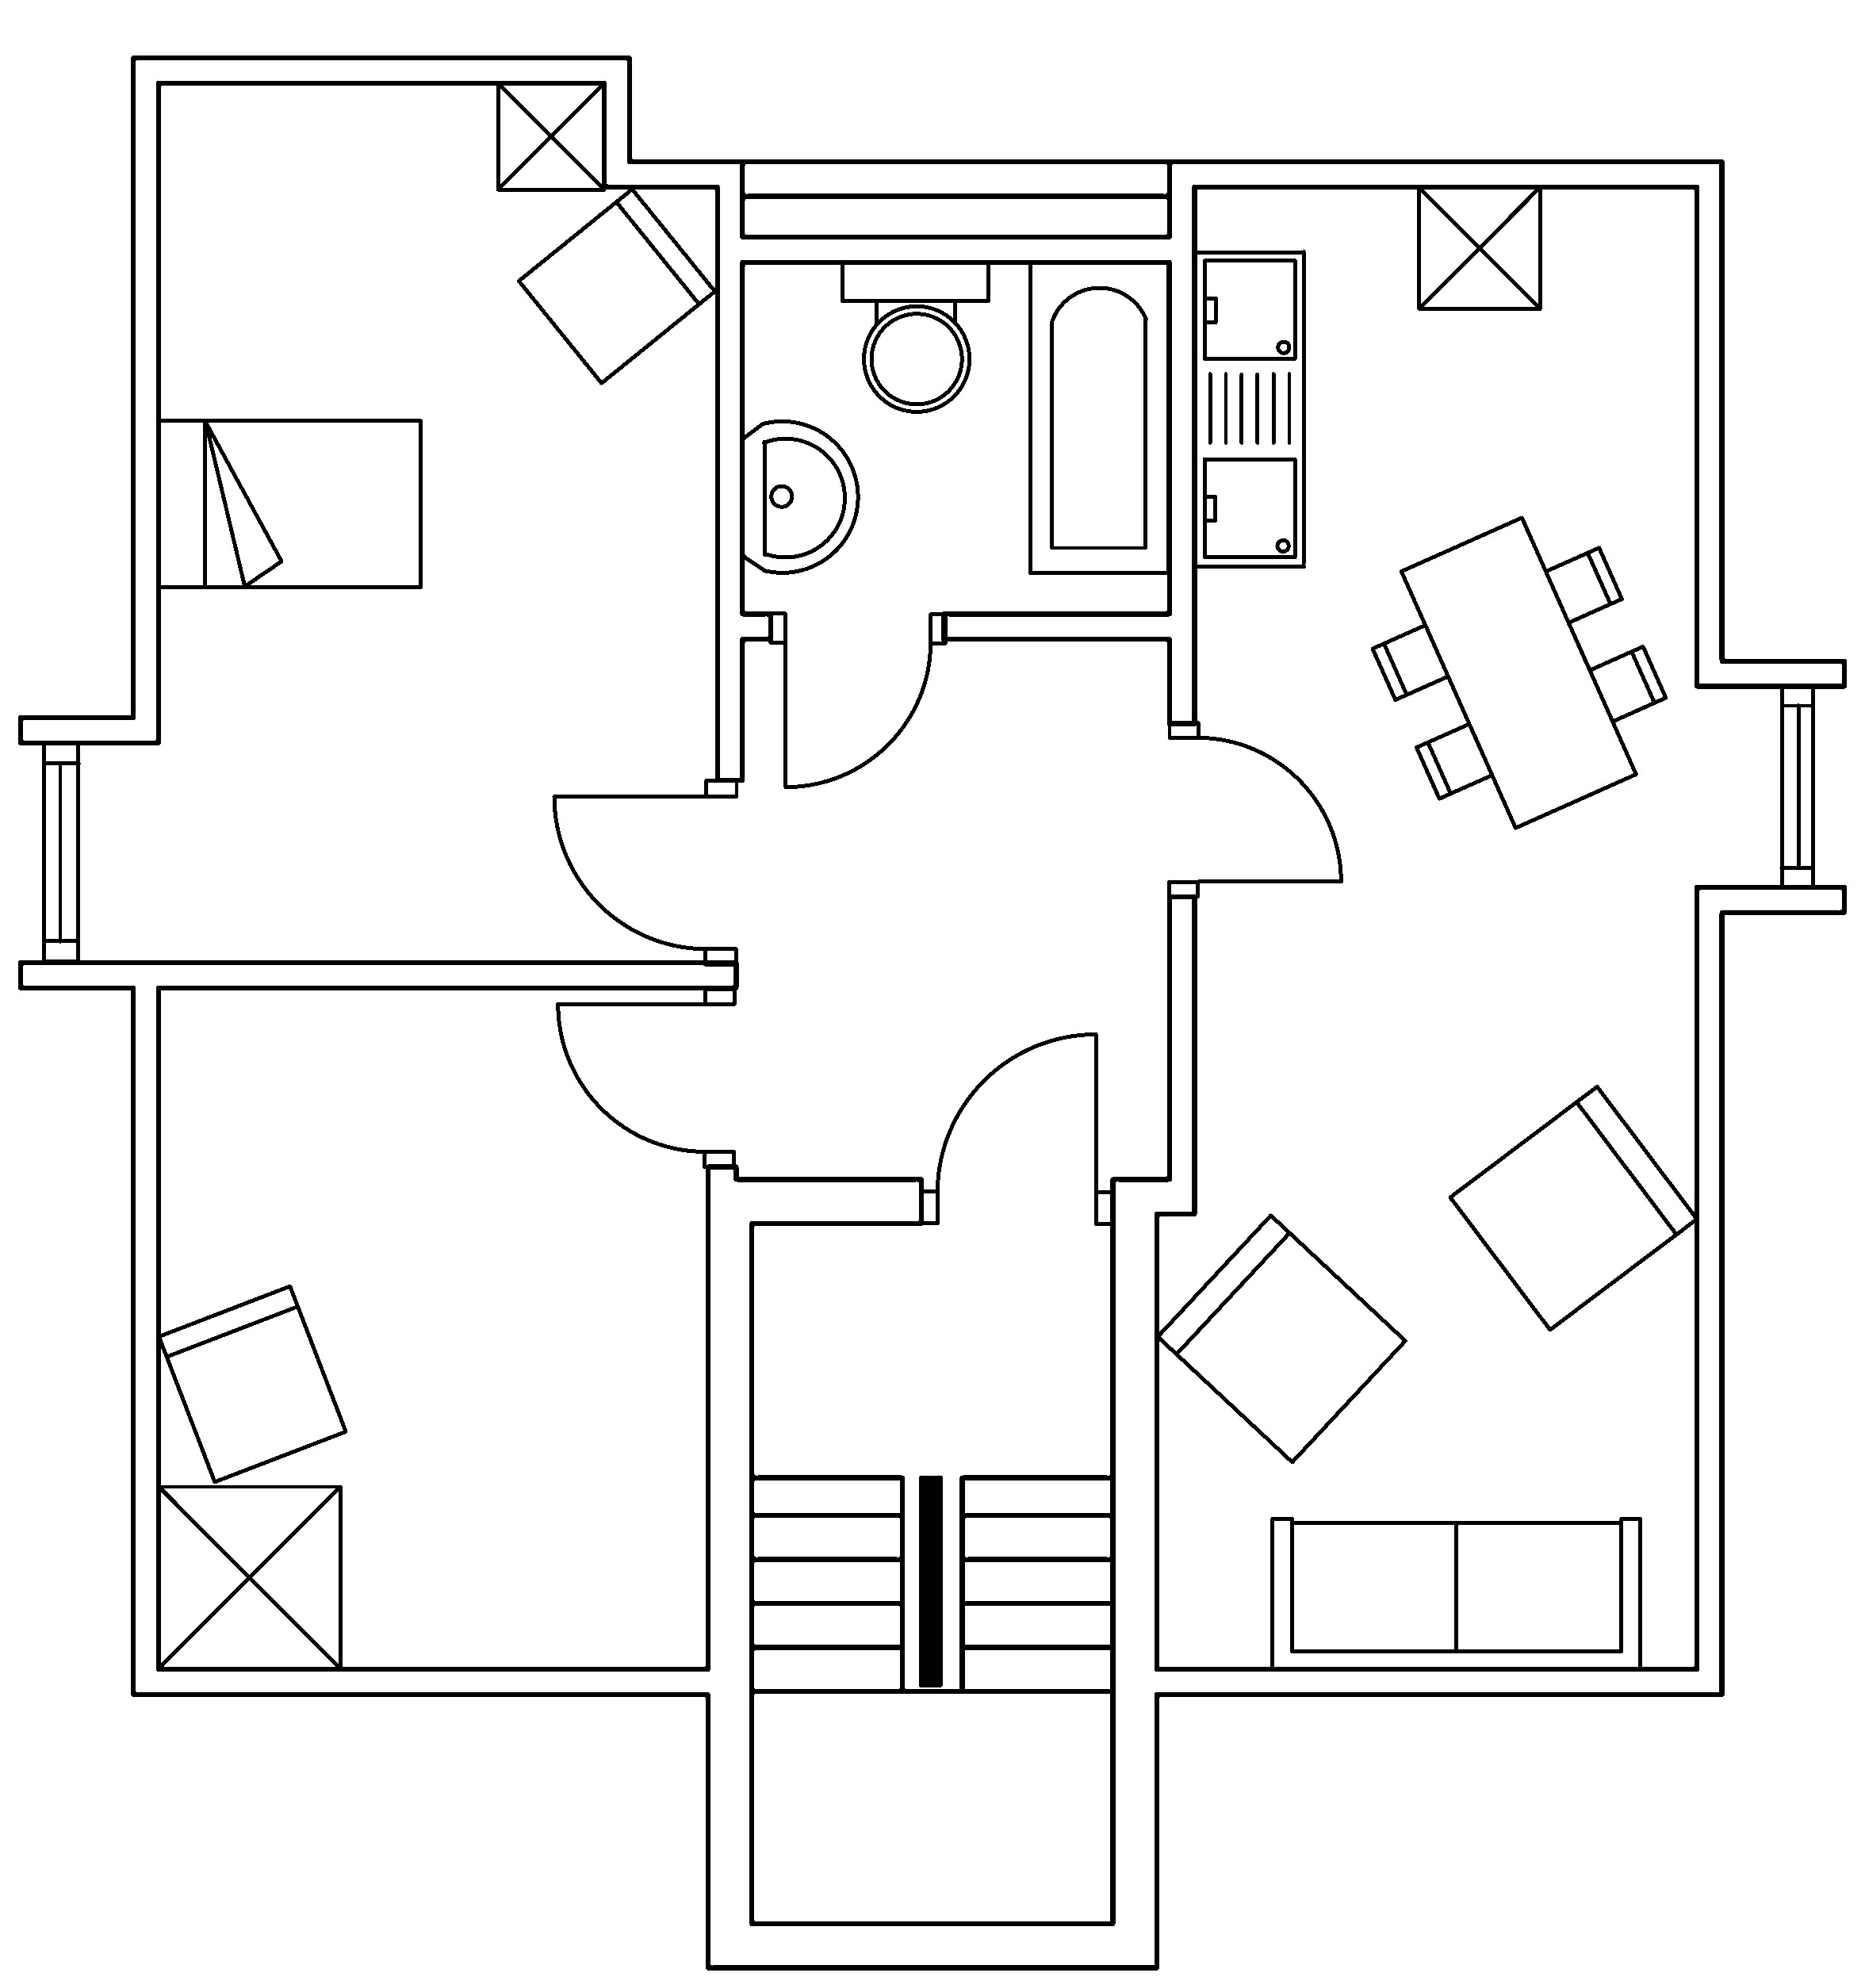bed: (154, 415, 424, 591)
coffee_table: (154, 1481, 342, 1671), (1416, 182, 1542, 310), (494, 79, 606, 191)
dining_table: (1369, 514, 1669, 831)
large_sink: (840, 258, 990, 412)
large_sofa: (1269, 1515, 1642, 1672)
small_sink: (740, 419, 859, 573)
small_sofa: (1153, 1211, 1408, 1464), (1446, 1082, 1698, 1332), (515, 186, 717, 386), (156, 1282, 349, 1485)
tub: (1027, 258, 1171, 575)
twin_sink: (1192, 247, 1308, 570)
